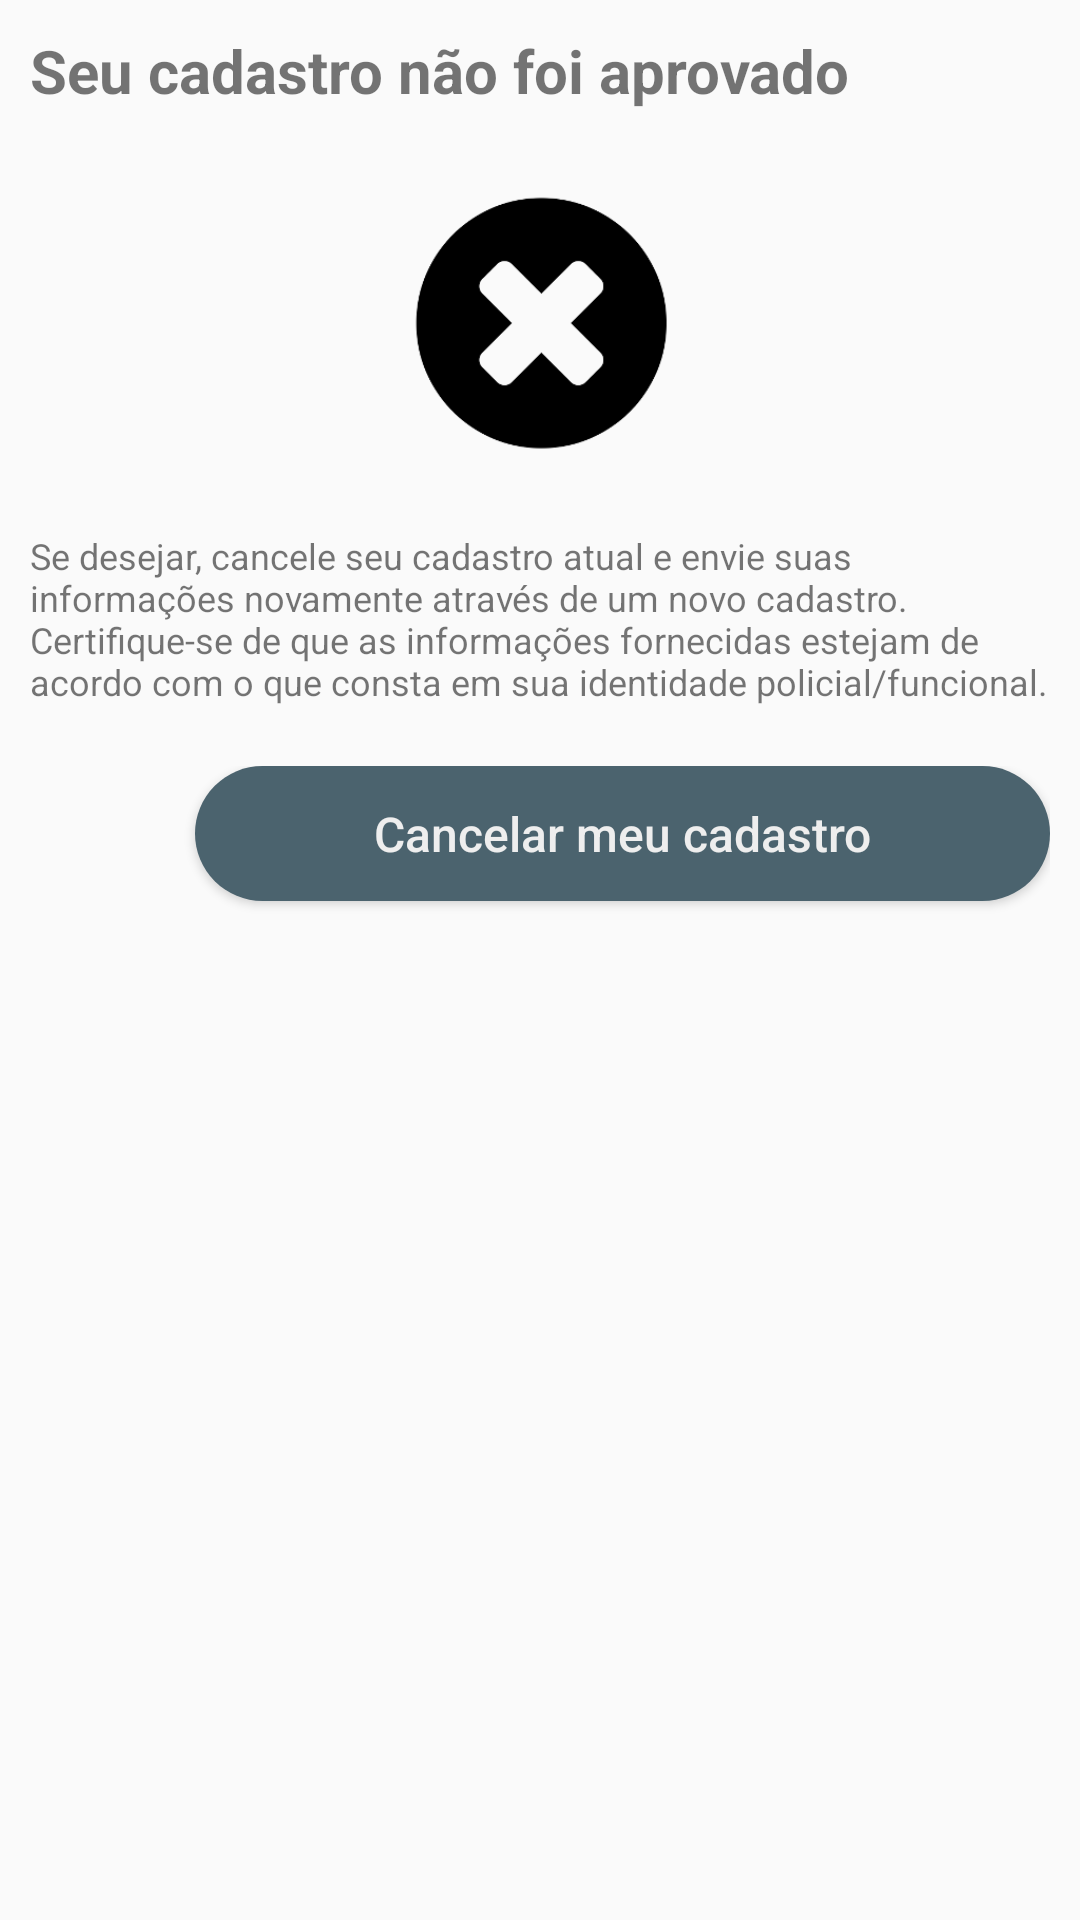

Named icons in this screenshot (1080w x 1920h) and their bounding boxes, (x1,y1,x2,y2):
error: (415,197,667,449)
